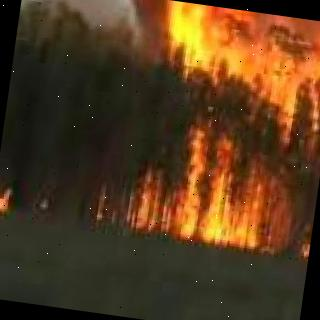fire: (94, 0, 320, 252), (0, 177, 19, 215)
